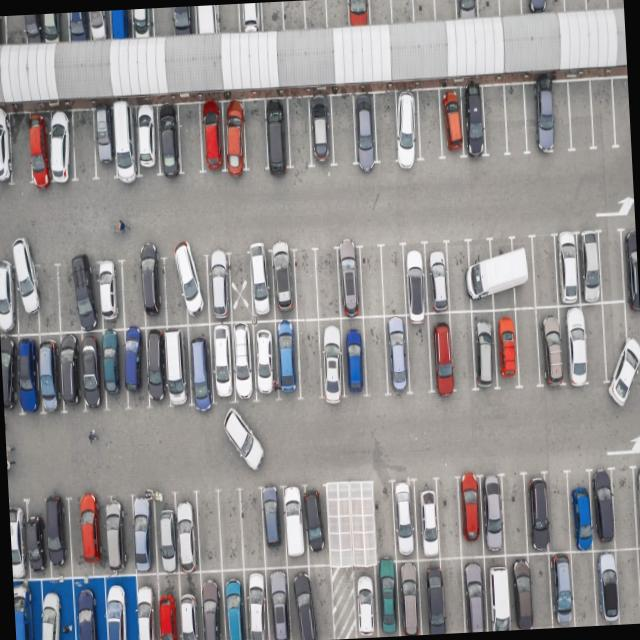car: (72, 492, 106, 573), (560, 303, 592, 387), (526, 80, 561, 155), (536, 307, 568, 389), (100, 494, 132, 573), (187, 324, 217, 408), (388, 478, 418, 560), (162, 326, 192, 408), (251, 322, 282, 401), (484, 554, 516, 630), (178, 248, 210, 324), (68, 258, 100, 334), (454, 475, 484, 556), (29, 578, 68, 640), (426, 314, 456, 394), (470, 308, 500, 388), (383, 314, 413, 394), (414, 478, 444, 558), (392, 91, 424, 166), (316, 318, 346, 398), (568, 472, 598, 552), (227, 322, 256, 404), (272, 319, 302, 398), (492, 310, 522, 389), (40, 493, 70, 572), (487, 236, 519, 310), (11, 255, 40, 336), (172, 494, 202, 572), (554, 235, 586, 308), (204, 249, 235, 324), (208, 323, 236, 406), (339, 316, 368, 396), (479, 474, 508, 554), (122, 328, 151, 407), (400, 245, 432, 316), (98, 577, 134, 640), (239, 567, 270, 640), (96, 260, 128, 330), (522, 474, 550, 554), (437, 88, 468, 160), (467, 238, 498, 310), (132, 495, 160, 574), (12, 334, 40, 413), (461, 556, 490, 632), (218, 569, 249, 640), (268, 247, 298, 320), (351, 94, 381, 167), (334, 248, 365, 318), (422, 242, 452, 314), (151, 493, 178, 573), (81, 330, 108, 410), (353, 566, 383, 638), (590, 547, 618, 624), (132, 104, 161, 178), (306, 96, 336, 167), (549, 550, 577, 626), (300, 487, 328, 563), (286, 564, 314, 640), (58, 332, 85, 410), (198, 101, 226, 176), (250, 245, 278, 320), (112, 106, 140, 181), (266, 565, 294, 640), (418, 558, 446, 633), (262, 98, 291, 170), (221, 101, 250, 173), (588, 472, 614, 552), (71, 579, 105, 640), (506, 556, 534, 630), (372, 564, 400, 638), (260, 489, 286, 568), (35, 336, 62, 412), (394, 558, 421, 634), (574, 231, 602, 304), (156, 105, 184, 178), (48, 111, 76, 184), (508, 236, 536, 309), (100, 328, 126, 406), (282, 486, 308, 563), (27, 111, 53, 187), (144, 328, 169, 407), (196, 570, 224, 640), (173, 575, 203, 640), (462, 84, 488, 158), (140, 256, 167, 326), (153, 573, 181, 640), (134, 573, 162, 640), (93, 109, 119, 180), (23, 502, 47, 576), (0, 256, 20, 334), (10, 504, 30, 582), (0, 336, 18, 414), (622, 228, 640, 303), (14, 582, 37, 640), (0, 111, 14, 185), (238, 2, 266, 34), (41, 13, 67, 44), (193, 5, 218, 35), (171, 6, 196, 36), (68, 12, 93, 42), (109, 10, 134, 40), (130, 8, 154, 38), (87, 10, 110, 40), (344, 0, 370, 26), (23, 14, 43, 44), (523, 0, 564, 14), (633, 464, 640, 546), (456, 0, 481, 18), (0, 16, 5, 47)
free: (603, 305, 633, 391), (404, 315, 436, 394), (447, 310, 477, 392), (500, 476, 530, 556), (512, 308, 542, 388), (578, 304, 606, 389), (360, 315, 390, 394), (434, 478, 462, 560), (596, 230, 626, 306), (436, 556, 466, 632), (570, 548, 599, 626), (242, 96, 272, 171), (304, 564, 334, 639), (546, 472, 574, 552), (240, 490, 268, 570), (413, 90, 444, 162), (611, 468, 638, 550), (370, 484, 397, 566), (330, 93, 360, 166), (532, 237, 562, 310), (294, 318, 322, 396), (176, 104, 206, 176), (217, 492, 244, 572), (444, 242, 474, 314), (480, 82, 509, 156), (371, 92, 400, 166), (289, 251, 319, 322), (567, 78, 596, 151), (196, 492, 223, 570), (590, 80, 620, 150), (285, 98, 315, 168), (71, 110, 100, 181), (35, 256, 62, 332), (225, 248, 252, 324), (58, 259, 86, 332), (312, 250, 341, 320), (356, 248, 385, 318), (379, 246, 408, 316), (502, 83, 530, 155), (528, 554, 555, 628), (9, 114, 36, 188), (121, 260, 148, 328), (162, 253, 187, 324), (617, 546, 640, 622), (549, 80, 573, 152), (328, 489, 350, 566), (612, 78, 632, 149), (282, 1, 307, 32), (325, 0, 351, 29), (304, 0, 329, 30), (152, 7, 176, 38), (260, 1, 284, 32), (217, 4, 241, 34), (5, 15, 28, 45), (367, 0, 393, 26), (390, 0, 415, 24), (413, 0, 437, 21), (434, 0, 459, 20), (498, 0, 522, 17), (475, 0, 499, 17), (563, 0, 587, 11), (584, 0, 608, 10), (606, 0, 624, 7)
